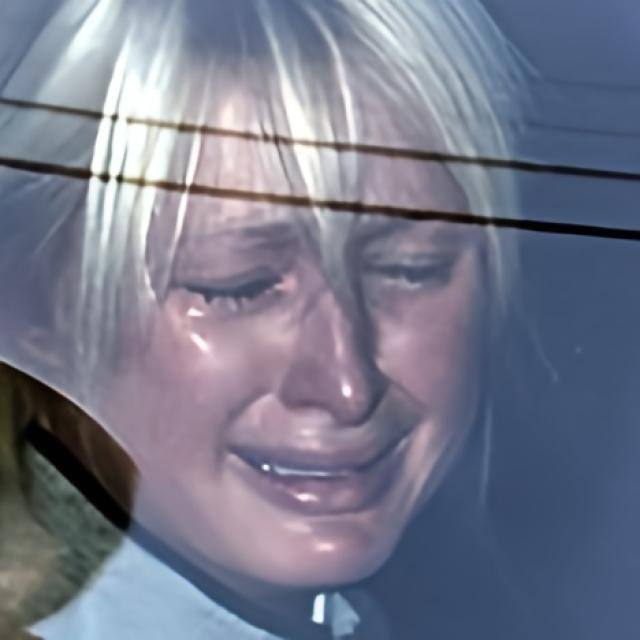sad: (118, 88, 498, 586)
